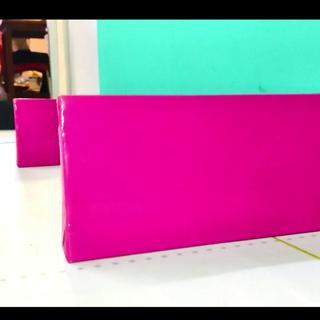xparking: (64, 96, 320, 264), (16, 100, 59, 169)
